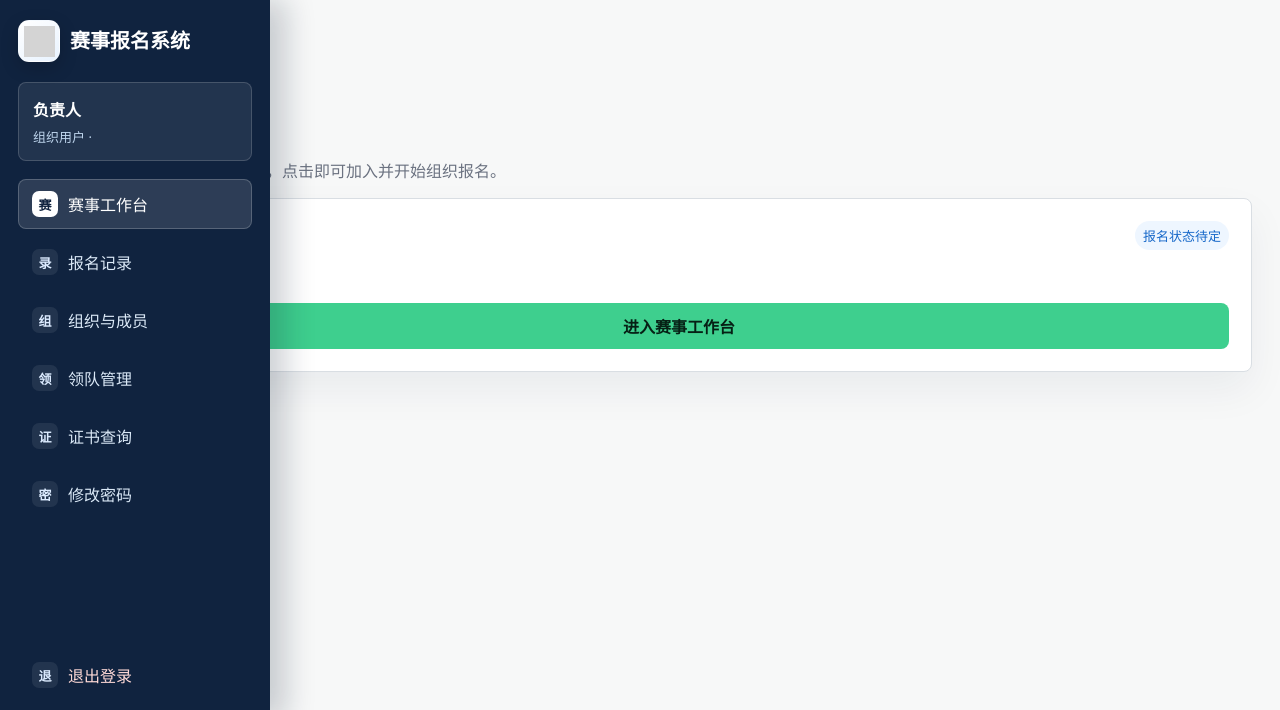
App session integration › keeps approved organization navigation stable and scopes the selected event URL
Click the button "春季赛 报名状态待定 已加入 进入赛事工作台" at (679, 285), box x1=106 y1=198 x2=1252 y2=372
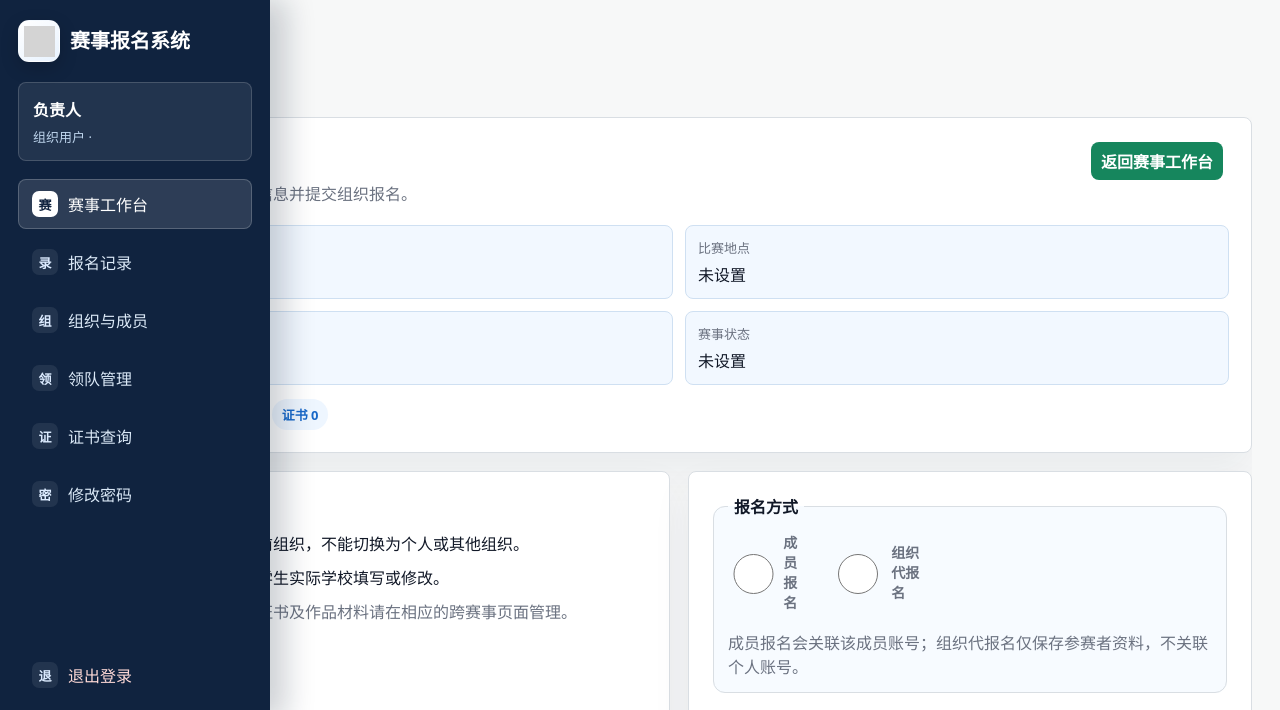
Click the button "返回赛事工作台" at (1157, 161), box x1=1091 y1=142 x2=1223 y2=180
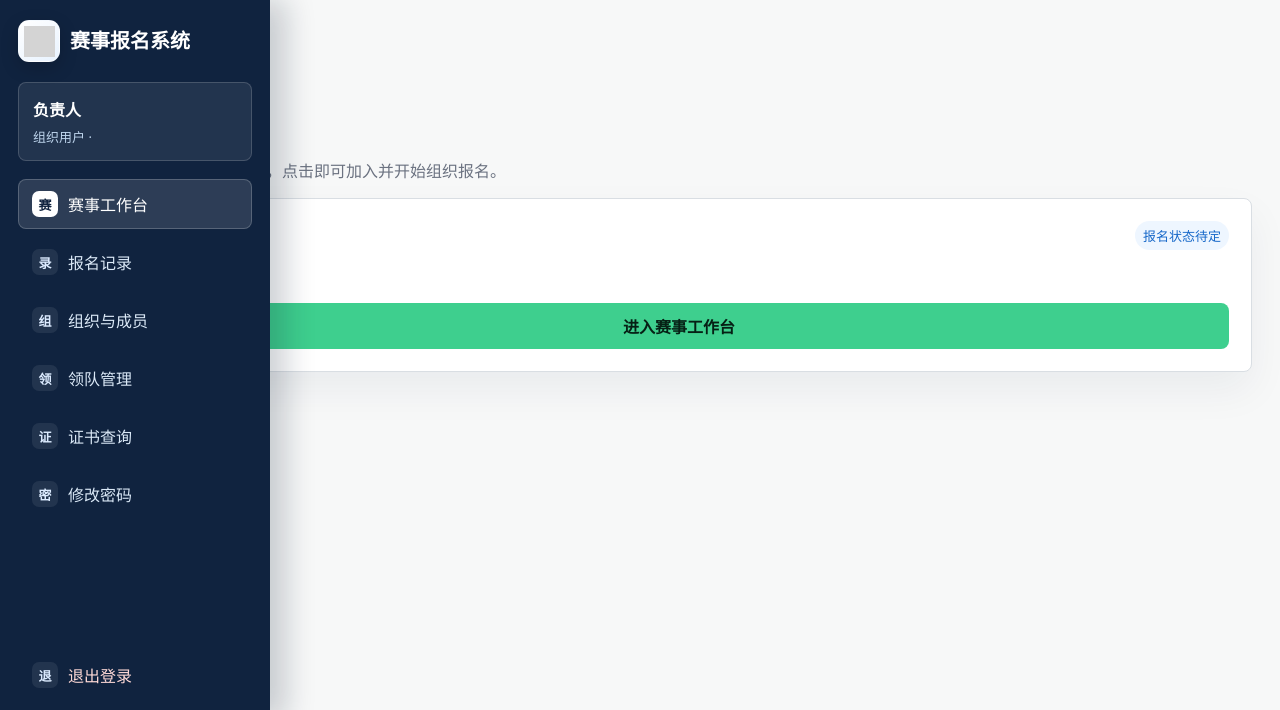
Expected: the element with test id "event-center-page" is shown, x1=106 y1=117 x2=1252 y2=372
Click the button "组 组织与成员" at (135, 320), box x1=18 y1=295 x2=252 y2=345
(page scrolled)
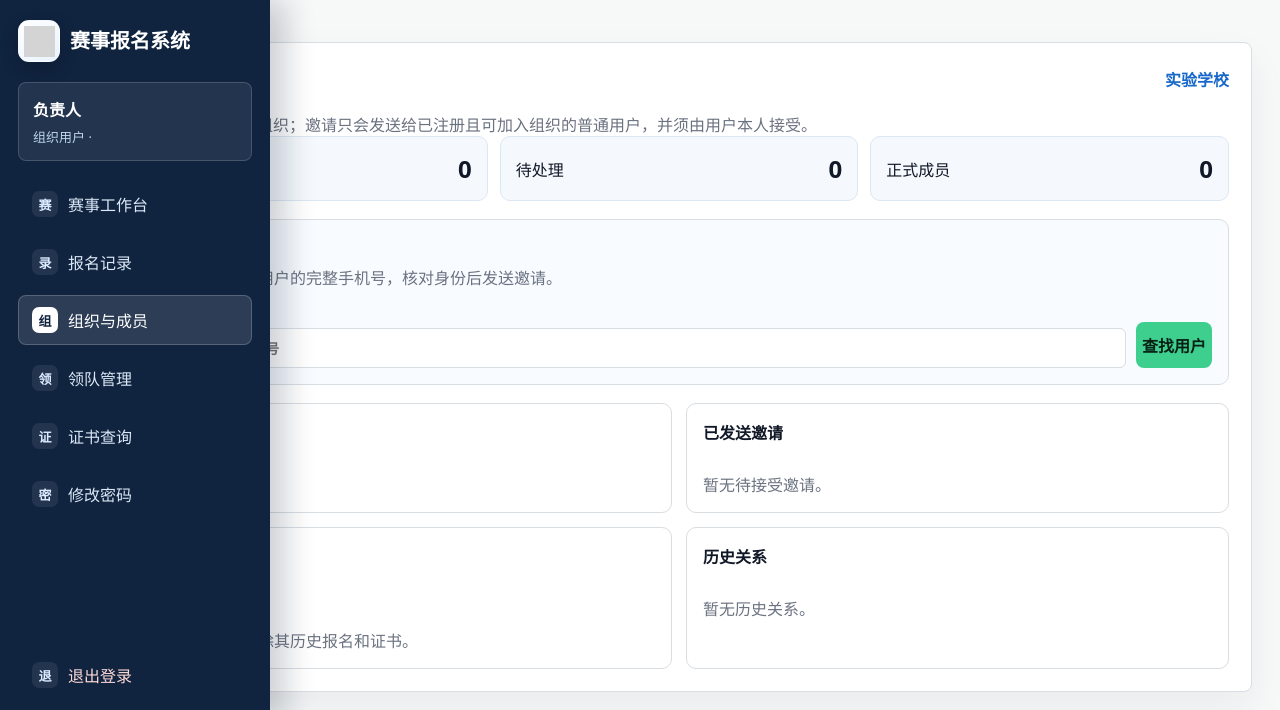
Expected: the element with test id "organization-console-page" is shown
